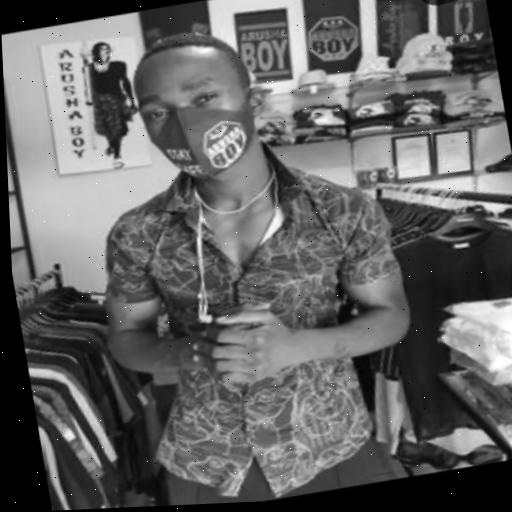mask: (127, 43, 260, 187)
